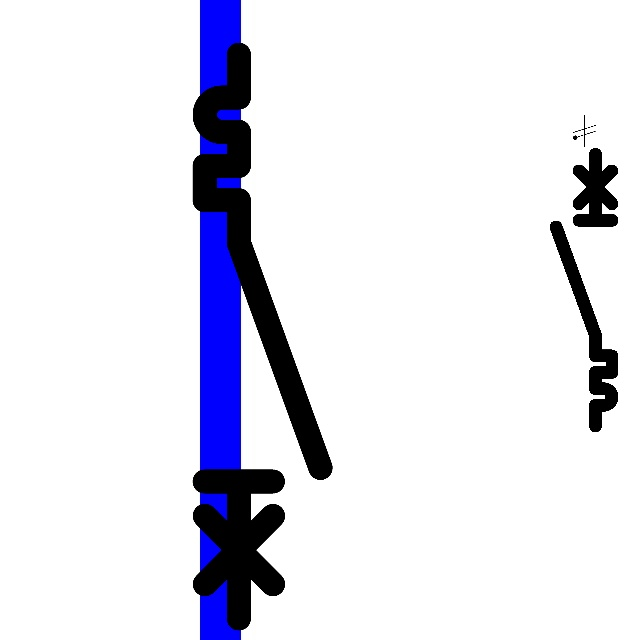interruptor_termomagnetico: (190, 40, 335, 633), (549, 147, 619, 433)
